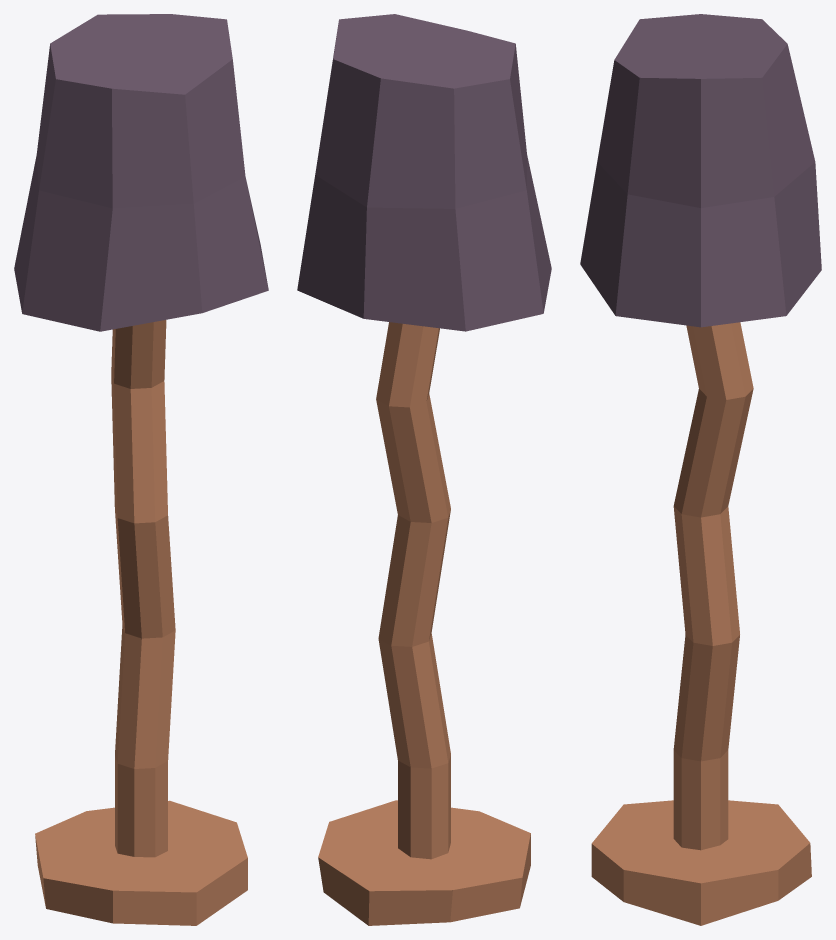
Rendered from lamp_big_1.fbx.
The picture shows the model from 3 angles, left to right: view 1: azimuth 30°, elevation 25°; view 2: azimuth 150°, elevation 25°; view 3: azimuth 270°, elevation 25°; orthographic projection.
Parts seen in each view (by area): view 1: Lamp.001; view 2: Lamp.001; view 3: Lamp.001.
Boxes of the visible parts, <box> form: Lamp.001: <box>14,14,268,925</box>; Lamp.001: <box>297,14,551,925</box>; Lamp.001: <box>580,14,821,925</box>.
Size of the model in its own units: 82.68 by 280 by 73.07.
